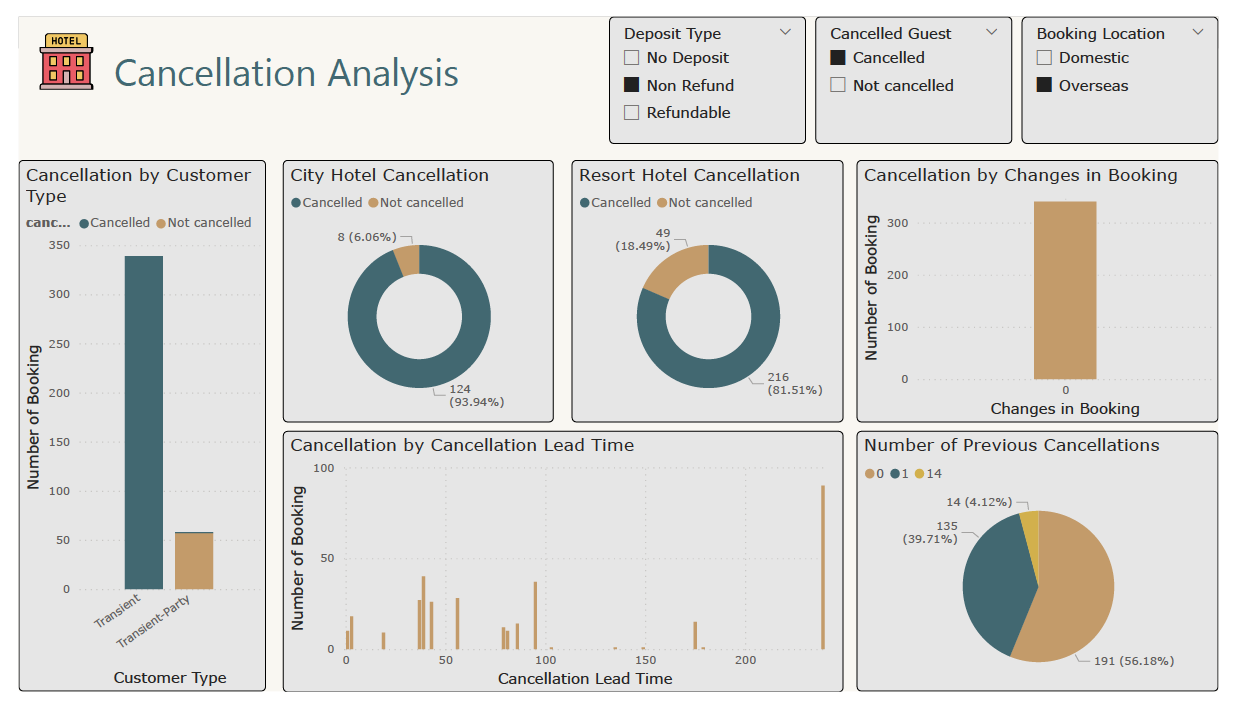

What the dashboard file says about the page in this screenshot:
{"tool":"powerbi","page":{"name":"Cancellation Analysis","canvas":[1280,720],"ordinal":3},"visuals":[{"type":"clusteredColumnChart","title":"Cancellation by Changes in Booking","fields":{"Category":["hotel_booking_cleaned.booking_changes"],"Y":["measure_groups.booking_count"]},"box":[894.5,153.3,385.8,279.5],"z":0},{"type":"donutChart","title":"City Hotel Cancellation","fields":{"Y":["hotel_booking_cleaned.booking_count"],"Category":["hotel_booking_cleaned.cancelled_guest"]},"box":[281.6,153.3,289.7,279.5],"z":1000},{"type":"slicer","fields":{"Values":["hotel_booking_cleaned.deposit_type"]},"box":[630.5,0,209.7,135.6],"z":2000},{"type":"donutChart","title":"Resort Hotel Cancellation","fields":{"Y":["hotel_booking_cleaned.booking_count"],"Category":["hotel_booking_cleaned.cancelled_guest"]},"box":[590.2,153.3,289.7,279.5],"z":3000},{"type":"columnChart","title":"Cancellation by Customer Type","fields":{"Category":["hotel_booking_cleaned.customer_type"],"Y":["hotel_booking_cleaned.booking_count"],"Series":["hotel_booking_cleaned.cancelled_guest"]},"box":[0,153.2,263.7,566.4],"z":4000},{"type":"clusteredColumnChart","title":"Cancellation by Cancellation Lead Time","fields":{"Category":["hotel_booking_cleaned.canceled_days_before"],"Y":["measure_groups.booking_count"]},"box":[281.6,441.6,598.4,279.5],"z":5000},{"type":"shape","box":[10,10,467.2,95.4],"z":6000},{"type":"image","box":[16,12.3,70.2,70.2],"z":7000},{"type":"slicer","fields":{"Values":["hotel_booking_cleaned.cancelled_guest"]},"box":[850.2,0,209.7,135.6],"z":8000},{"type":"slicer","fields":{"Values":["hotel_booking_cleaned.booking_location"]},"box":[1070,0,209.7,135.6],"z":9000},{"type":"pieChart","title":"Number of Previous Cancellations","fields":{"Category":["information.previous_cancellations"],"Y":["measure_groups.booking_count"]},"box":[894.2,442.1,385.6,277.6],"z":10000}]}

Visuals, with their boxes in screenshot pixels (x1, y1, x2, y2), scaled from the page's 1280x720 canvas onto the 1237x710 screenshot:
"Cancellation by Changes in Booking" clusteredColumnChart: 864, 151, 1236, 427
"City Hotel Cancellation" donutChart: 272, 151, 552, 427
slicer - hotel_booking_cleaned.deposit_type: 609, 0, 812, 134
"Resort Hotel Cancellation" donutChart: 570, 151, 850, 427
"Cancellation by Customer Type" columnChart: 0, 151, 255, 709
"Cancellation by Cancellation Lead Time" clusteredColumnChart: 272, 435, 850, 709
shape: 10, 10, 461, 104
image: 15, 12, 83, 81
slicer - hotel_booking_cleaned.cancelled_guest: 822, 0, 1024, 134
slicer - hotel_booking_cleaned.booking_location: 1034, 0, 1236, 134
"Number of Previous Cancellations" pieChart: 864, 436, 1236, 709
